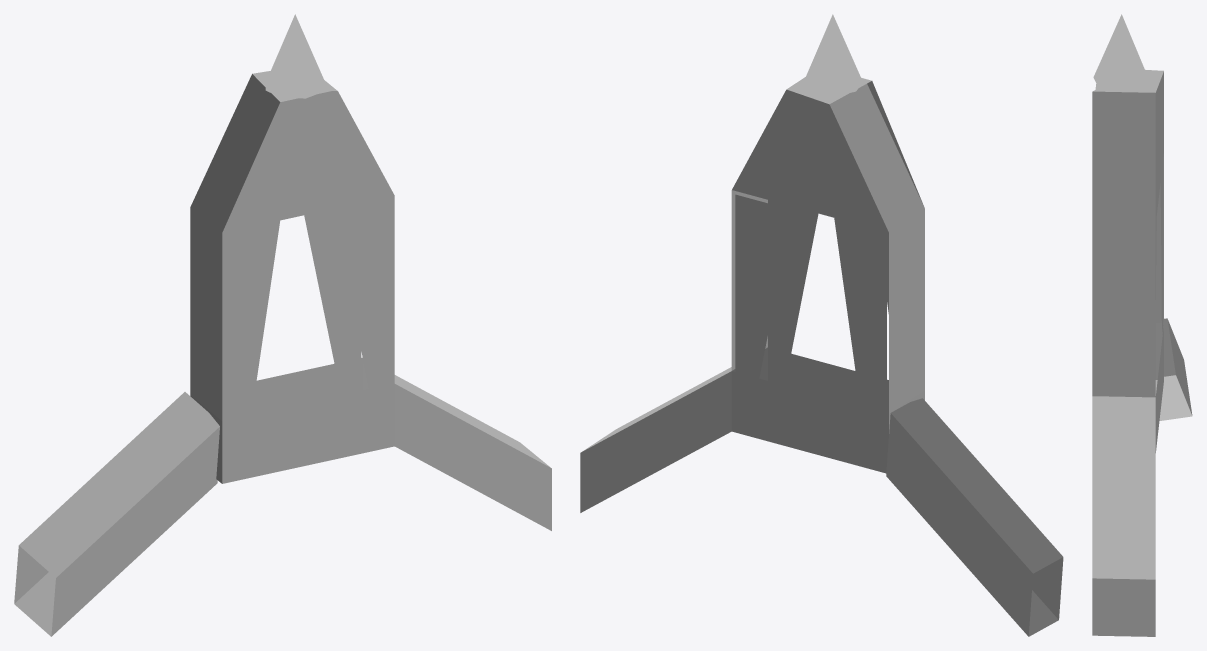
The model's file is eilffel.dae.
The picture shows the model from 3 angles, left to right: view 1: azimuth 30°, elevation 25°; view 2: azimuth 150°, elevation 25°; view 3: azimuth 270°, elevation 25°; orthographic projection. The views are drawn at different scales.
Parts seen in each view (by area): view 1: edges; view 2: edges; view 3: edges.
Part boxes in pixels (<box>): edges: <box>14,14,551,636</box>; edges: <box>580,14,1063,636</box>; edges: <box>1092,14,1192,636</box>.
Bounding box in the file's own units: 32.36 × 6.33 × 36.15.
1 material, 1 textured.
